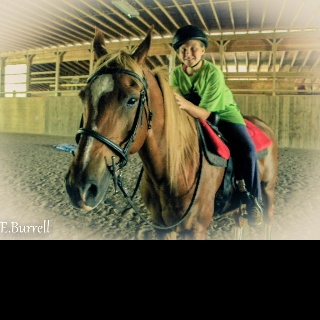without_mask: (179, 39, 202, 66)
